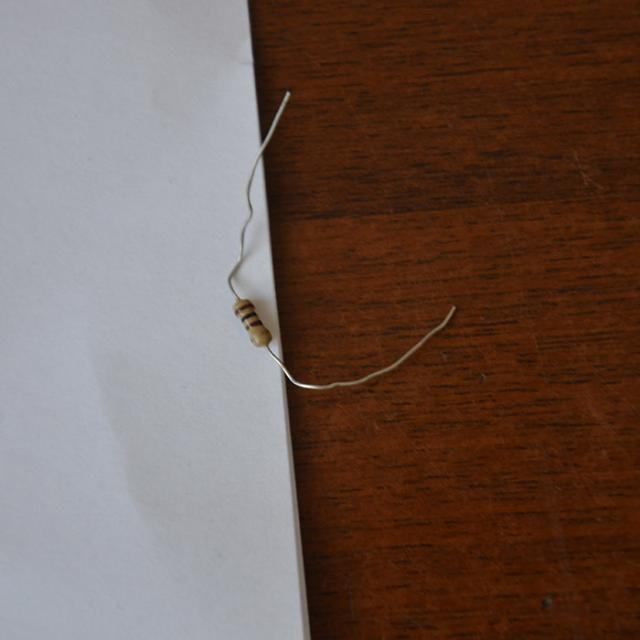black: (240, 310, 256, 321)
brown: (234, 303, 251, 315), (245, 319, 261, 328)
gold: (250, 328, 268, 343)
resistor: (224, 294, 276, 354)
